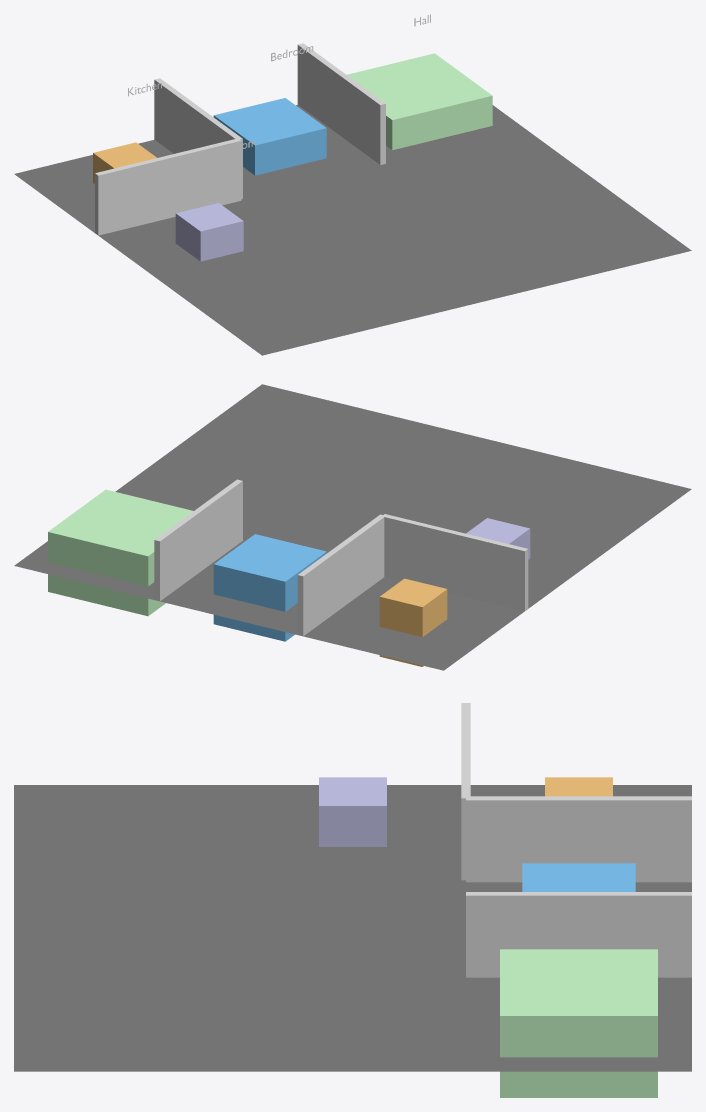
Rendered from house_49a63cce.glb.
The picture shows the model from 3 angles, top to bottom: view 1: azimuth 30°, elevation 25°; view 2: azimuth 150°, elevation 25°; view 3: azimuth 270°, elevation 25°; orthographic projection. The views are drawn at different scales.
Parts seen in each view (by area): view 1: Plane, Wall.001, hall, Wall.002, bedroom, Wall, bathroom, kitchen; view 2: Plane, hall, Wall.001, bedroom, Wall.002, Wall, kitchen, bathroom; view 3: Plane, hall, Wall, Wall.002, bathroom, bedroom, Wall.001, kitchen.
Boxes of the visible parts, x1=… form: Plane: x1=14, y1=105, x2=691, y2=355; Wall.001: x1=95, y1=139, x2=241, y2=235; hall: x1=347, y1=53, x2=492, y2=150; Wall.002: x1=297, y1=43, x2=385, y2=164; bedroom: x1=213, y1=98, x2=326, y2=175; Wall: x1=154, y1=78, x2=242, y2=198; bathroom: x1=175, y1=203, x2=243, y2=261; kitchen: x1=93, y1=142, x2=156, y2=183; Plane: x1=14, y1=384, x2=691, y2=670; hall: x1=48, y1=489, x2=193, y2=616; Wall.001: x1=382, y1=514, x2=528, y2=611; bedroom: x1=213, y1=534, x2=326, y2=641; Wall.002: x1=154, y1=479, x2=242, y2=601; Wall: x1=297, y1=514, x2=385, y2=636; kitchen: x1=379, y1=578, x2=447, y2=666; bathroom: x1=466, y1=518, x2=530, y2=559; Plane: x1=14, y1=785, x2=691, y2=1071; hall: x1=500, y1=949, x2=657, y2=1097; Wall: x1=466, y1=796, x2=691, y2=882; Wall.002: x1=466, y1=892, x2=691, y2=977; bathroom: x1=319, y1=777, x2=386, y2=846; bedroom: x1=522, y1=863, x2=635, y2=891; Wall.001: x1=461, y1=703, x2=470, y2=880; kitchen: x1=545, y1=777, x2=612, y2=796.
Bounding box in the file's own units: 30 × 8.55 × 30.
